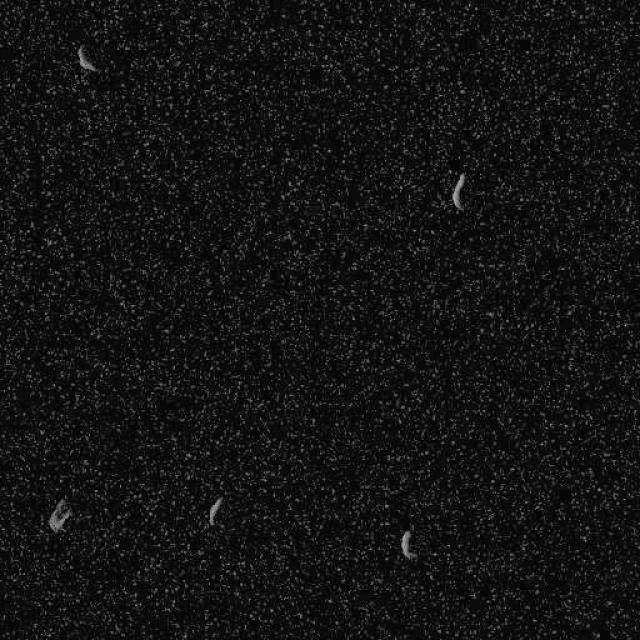D2: (46, 498, 72, 532), (75, 42, 99, 72), (398, 529, 418, 561), (450, 171, 466, 210), (206, 495, 224, 525)
